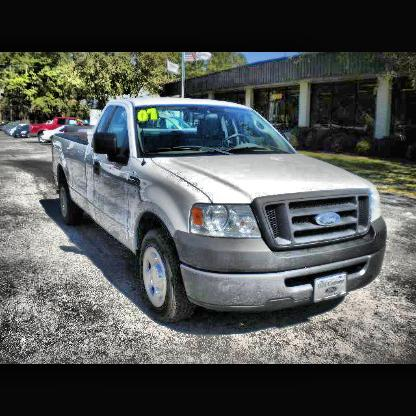Ford F-150 Regular Cab 2007: (51, 96, 388, 331)
